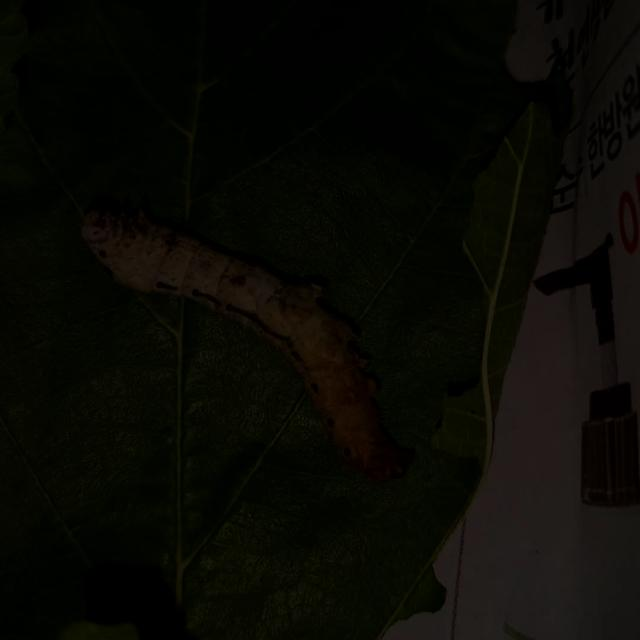Grasserie: (64, 182, 442, 490)
